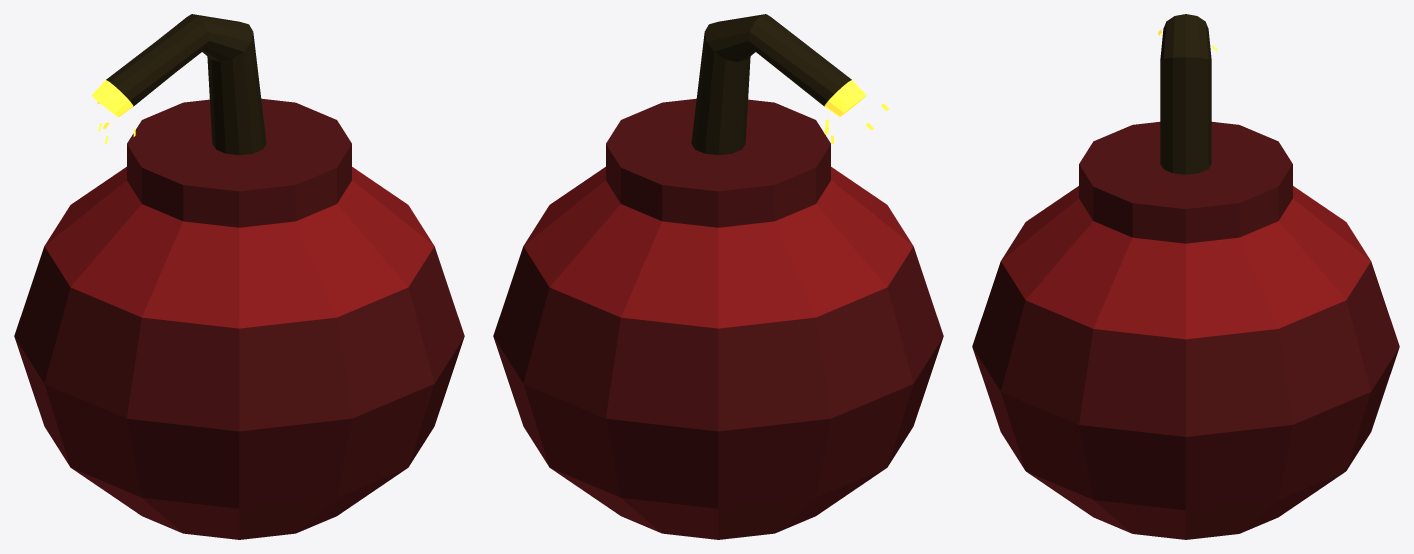
File: bomb.glb
3 views of the same model, side by side, from view 1: azimuth 30°, elevation 25°; view 2: azimuth 150°, elevation 25°; view 3: azimuth 270°, elevation 25° (orthographic). The views are drawn at different scales.
Visible parts, largest first — view 1: Sphere; view 2: Sphere; view 3: Sphere.
Part boxes in pixels (<box>): Sphere: <box>14,14,464,539</box>; Sphere: <box>493,14,943,539</box>; Sphere: <box>972,14,1399,539</box>.
Size of the model in its own units: 0.8 by 1 by 0.8.
Materials: 2 (1 with a texture image).
